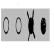correct: (40, 13, 48, 39)
no answer: (15, 15, 22, 39)
not correct: (27, 9, 36, 42)
